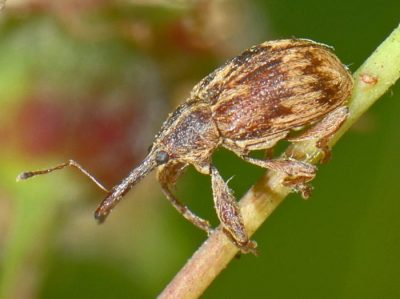dolgonosik: (15, 36, 355, 257)
